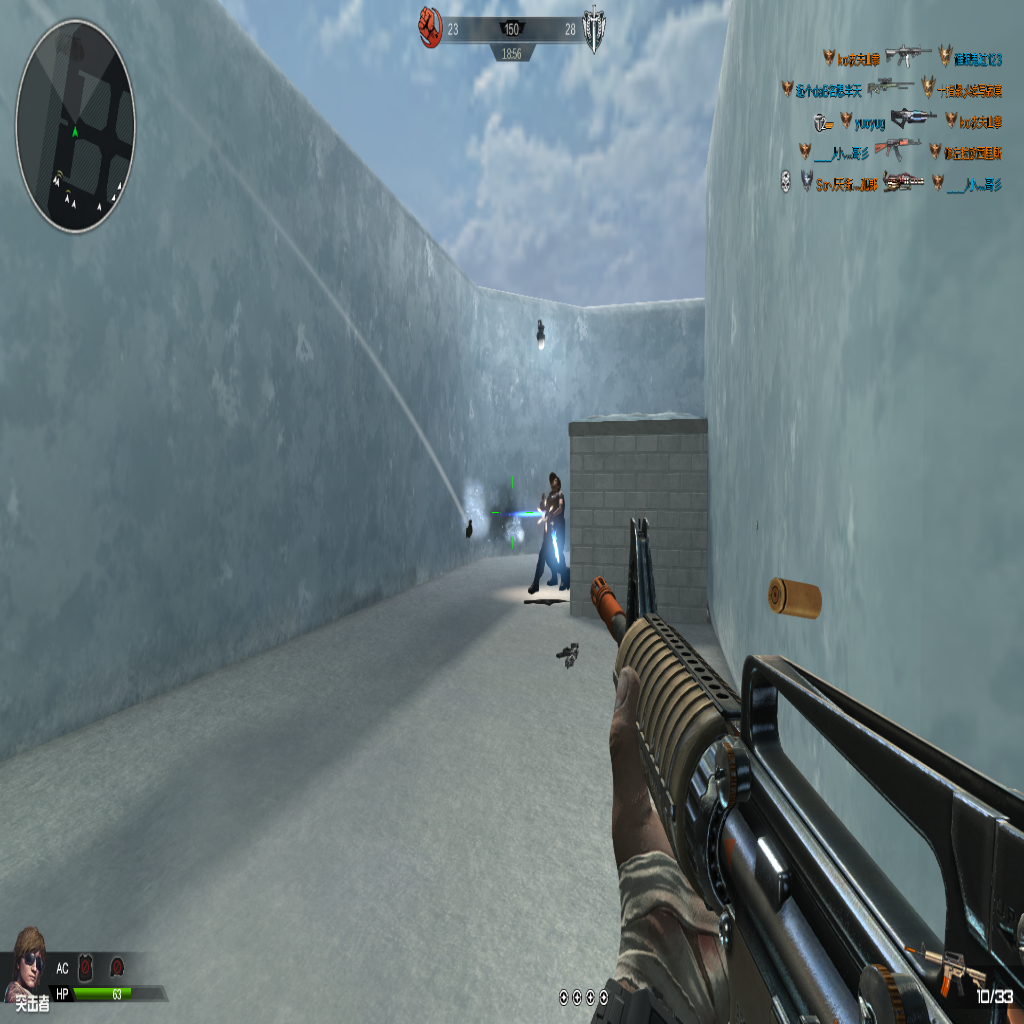ct: (535, 471, 567, 590)
